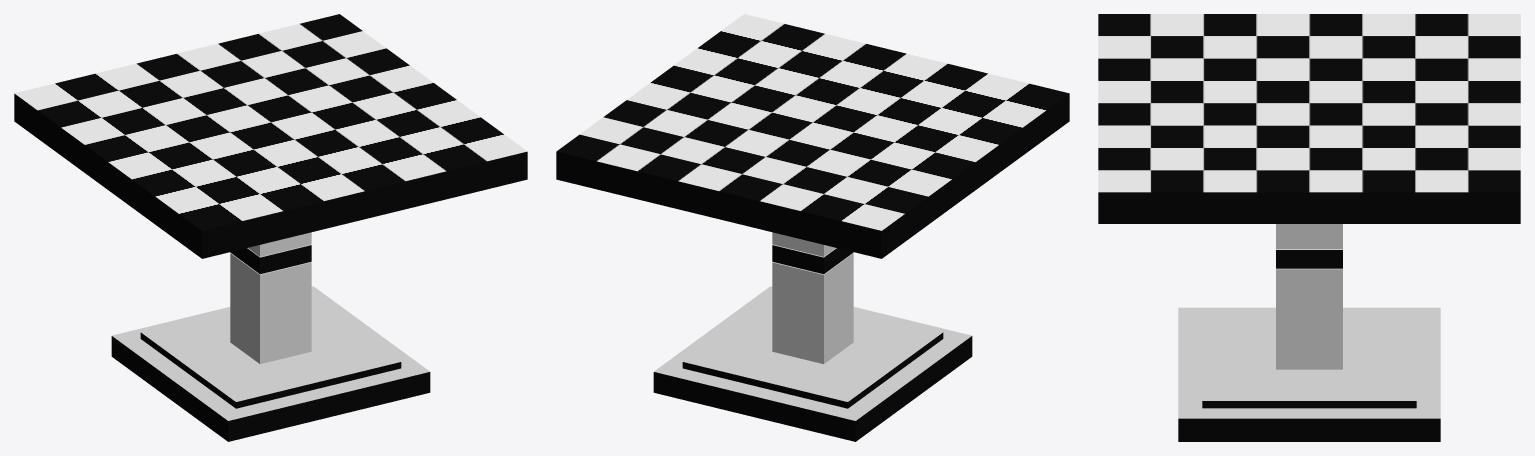
Rendered from Chess_table.fbx.
The picture shows the model from 3 angles, left to right: view 1: azimuth 30°, elevation 25°; view 2: azimuth 150°, elevation 25°; view 3: azimuth 270°, elevation 25°; orthographic projection. The views are drawn at different scales.
Parts seen in each view (by area): view 1: Chess_table; view 2: Chess_table; view 3: Chess_table.
Boxes of the visible parts, bbox=[...] form: Chess_table: bbox=[14, 14, 527, 441]; Chess_table: bbox=[556, 14, 1069, 441]; Chess_table: bbox=[1098, 14, 1520, 441].
Bounding box in the file's own units: 94.81 × 70.19 × 94.81.
Materials: 1 (1 with a texture image).
